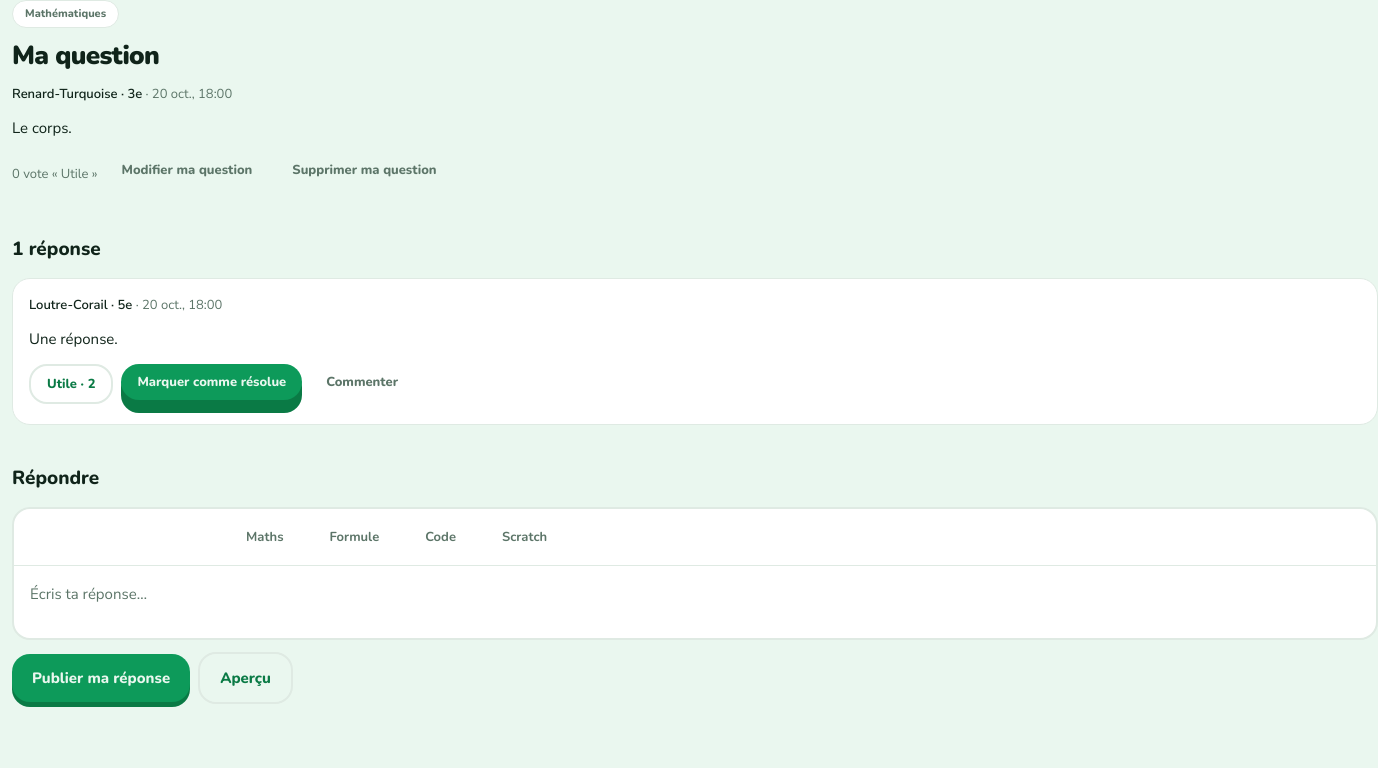
Test case: FilQuestion › shows the server’s message when the resolution fails
Click the button "Marquer comme résolue": click(212, 386) [122,364,302,408]
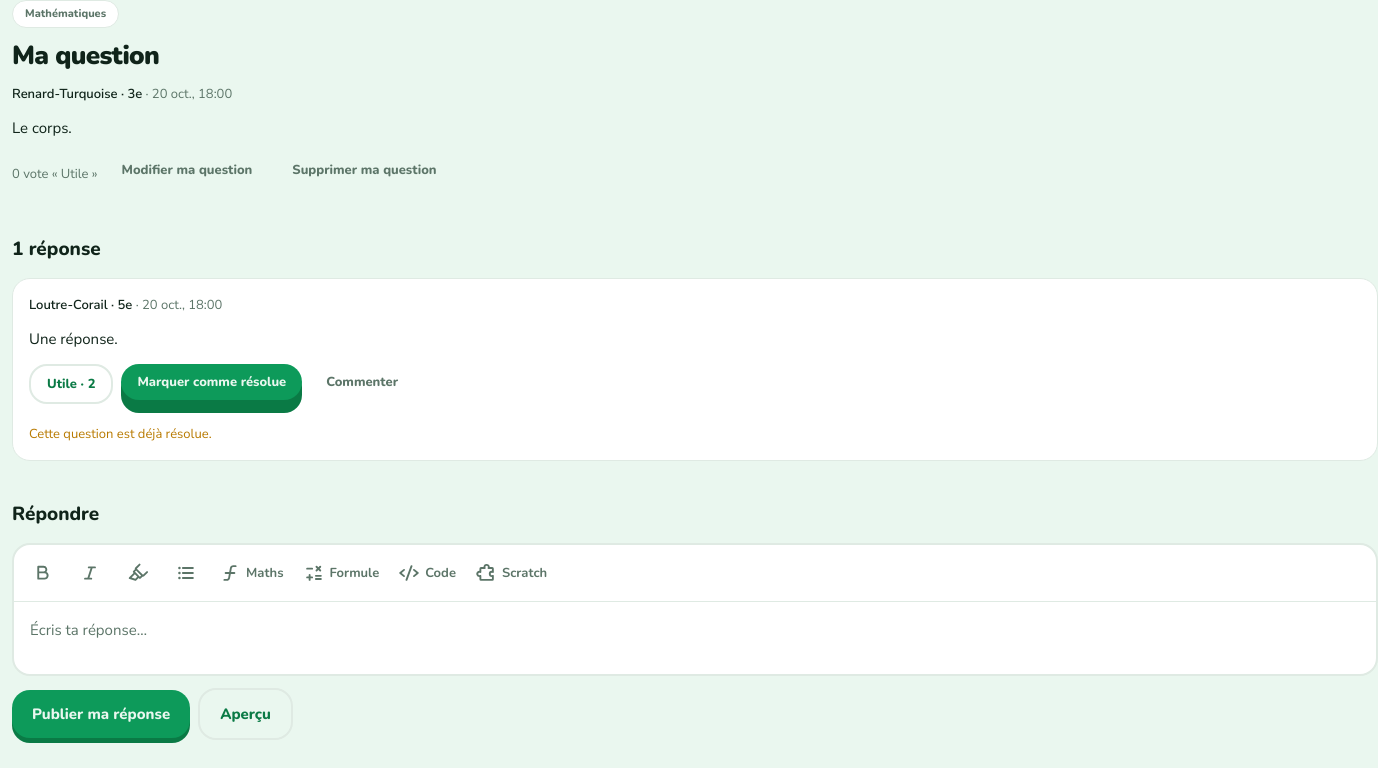
Result: the message reads "Cette question est déjà résolue." at [29,425,212,443]
